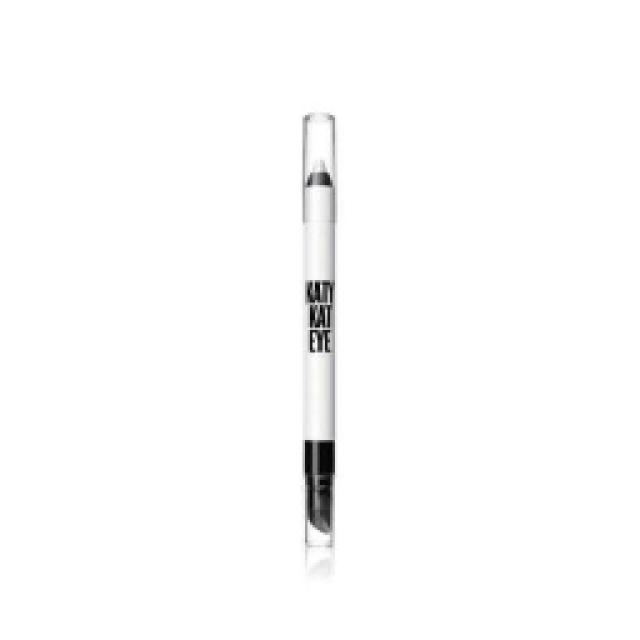pencil: (295, 107, 340, 555)
